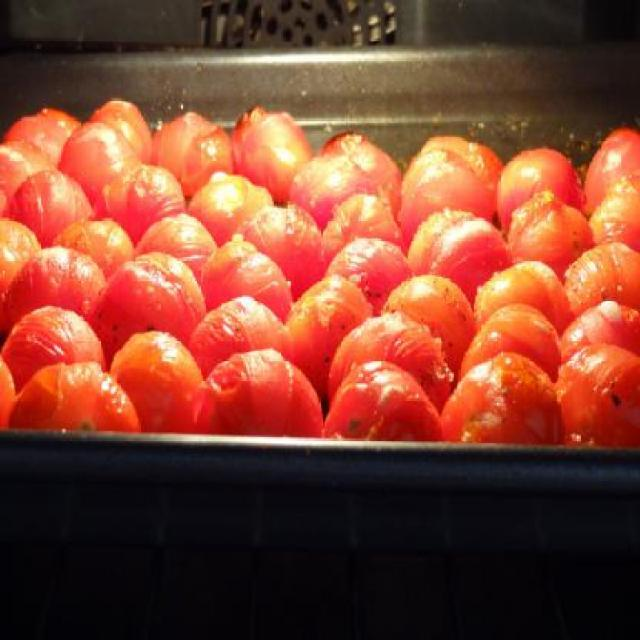Tomato: (0, 99, 640, 452), (102, 329, 198, 434)
